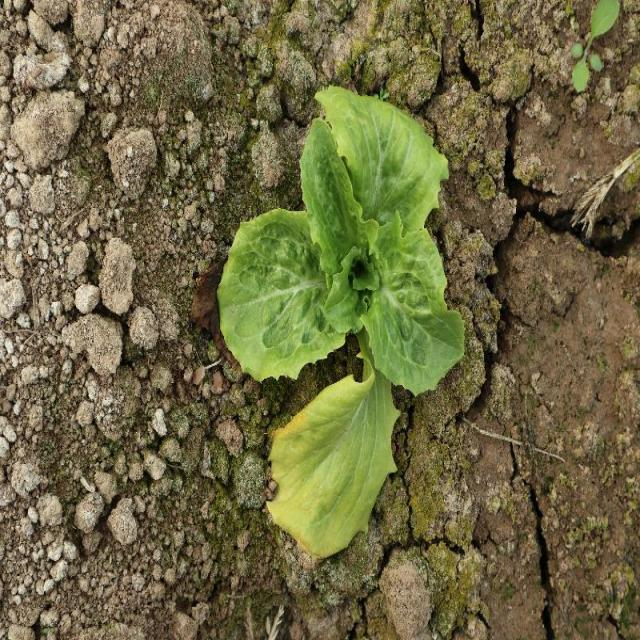crop: (217, 85, 468, 560)
